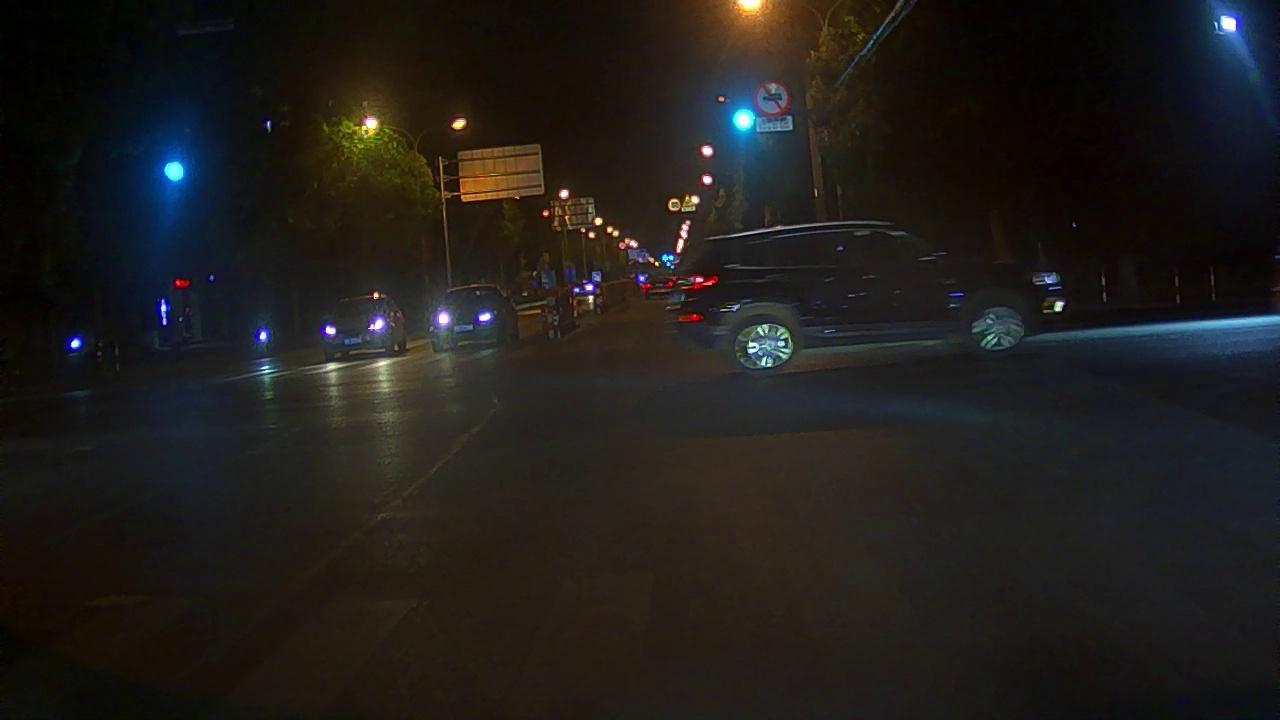traffic_light: (727, 102, 760, 138), (160, 152, 189, 188)
